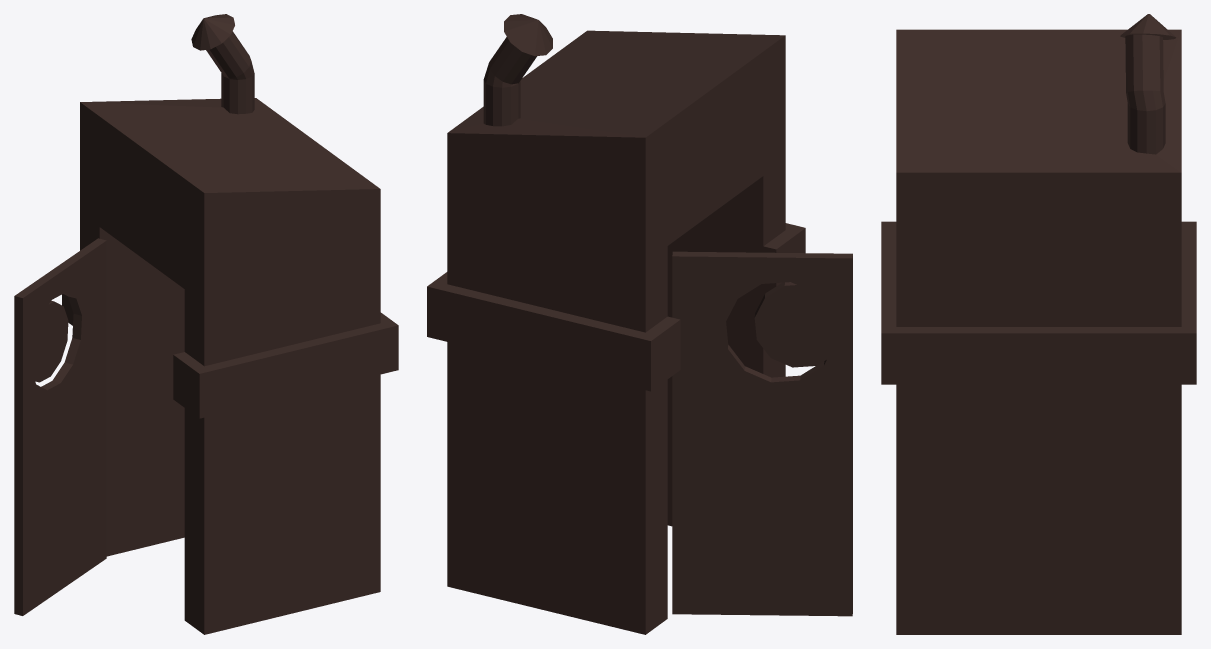
File: outhouse_open.fbx
3 views of the same model, side by side, from view 1: azimuth 30°, elevation 25°; view 2: azimuth 150°, elevation 25°; view 3: azimuth 270°, elevation 25° (orthographic). The views are drawn at different scales.
Visible parts, largest first — view 1: Cube.003; view 2: Cube.003; view 3: Cube.003.
Part boxes in pixels (left/top/right/bottom): Cube.003: left=14, top=14, right=398, bottom=634; Cube.003: left=427, top=14, right=852, bottom=634; Cube.003: left=881, top=14, right=1196, bottom=634.
Bounding box in the file's own units: 72.1 × 112 × 54.97.
